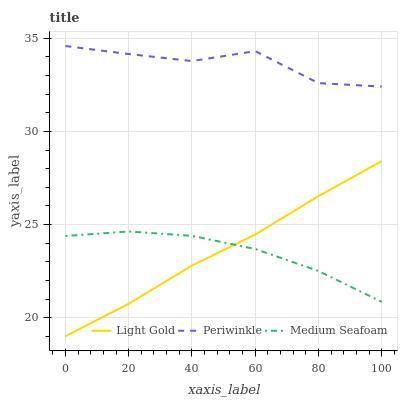axis: (56, 344, 400, 357), (42, 31, 55, 347)
legend: (89, 319, 393, 344)
line: (63, 160, 382, 339), (65, 229, 383, 304), (66, 44, 381, 89)
